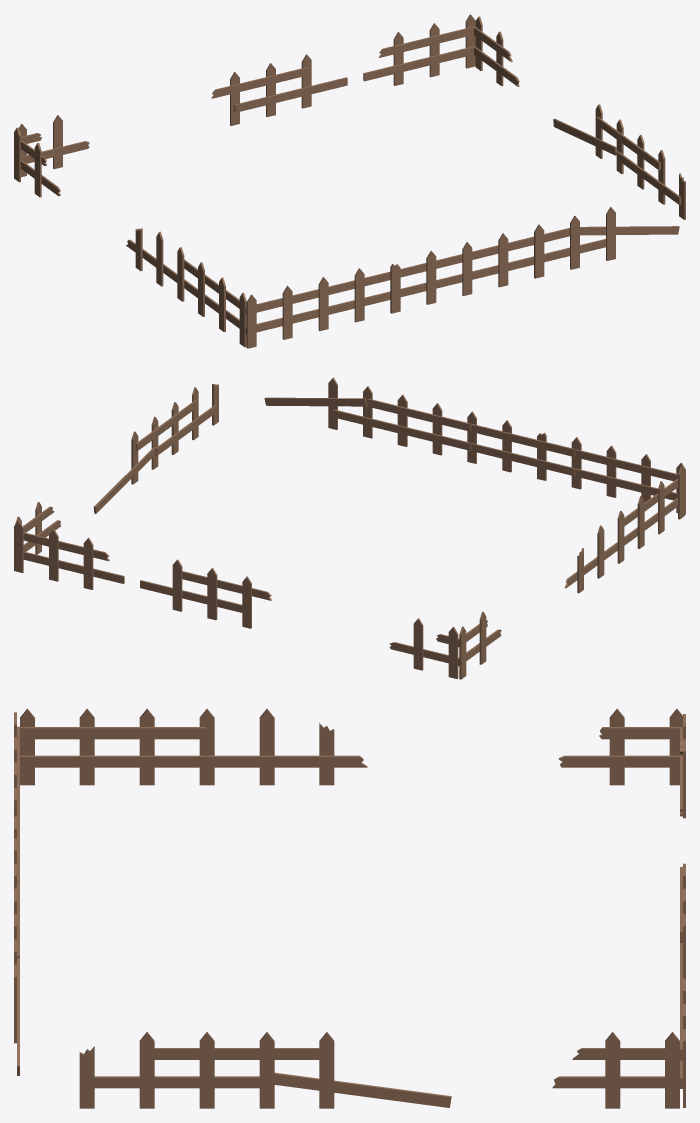
File: Fences.fbx
3 views of the same model, one above another, from view 1: azimuth 30°, elevation 25°; view 2: azimuth 150°, elevation 25°; view 3: azimuth 270°, elevation 25° (orthographic). The views are drawn at different scales.
Visible parts, largest first — view 1: Fence_002, Fence_005, Fence_001, Fence_004, Fence_003; view 2: Fence_002, Fence_005, Fence_001, Fence_004, Fence_003; view 3: Fence_002, Fence_001, Fence_005, Fence_003, Fence_004.
Part boxes in pixels (x1=…): Fence_002: x1=126, y1=207, x2=679, y2=348; Fence_005: x1=363, y1=14, x2=519, y2=86; Fence_001: x1=553, y1=104, x2=685, y2=219; Fence_004: x1=211, y1=54, x2=347, y2=125; Fence_003: x1=14, y1=115, x2=89, y2=197; Fence_002: x1=264, y1=377, x2=685, y2=593; Fence_005: x1=14, y1=502, x2=124, y2=589; Fence_001: x1=93, y1=384, x2=218, y2=513; Fence_004: x1=140, y1=559, x2=271, y2=628; Fence_003: x1=389, y1=611, x2=501, y2=679; Fence_002: x1=14, y1=708, x2=367, y2=1075; Fence_001: x1=79, y1=1032, x2=451, y2=1108; Fence_005: x1=552, y1=978, x2=685, y2=1108; Fence_003: x1=558, y1=708, x2=685, y2=818; Fence_004: x1=680, y1=863, x2=685, y2=984.
Size of the model in its own units: 1284 by 141 by 1123.
